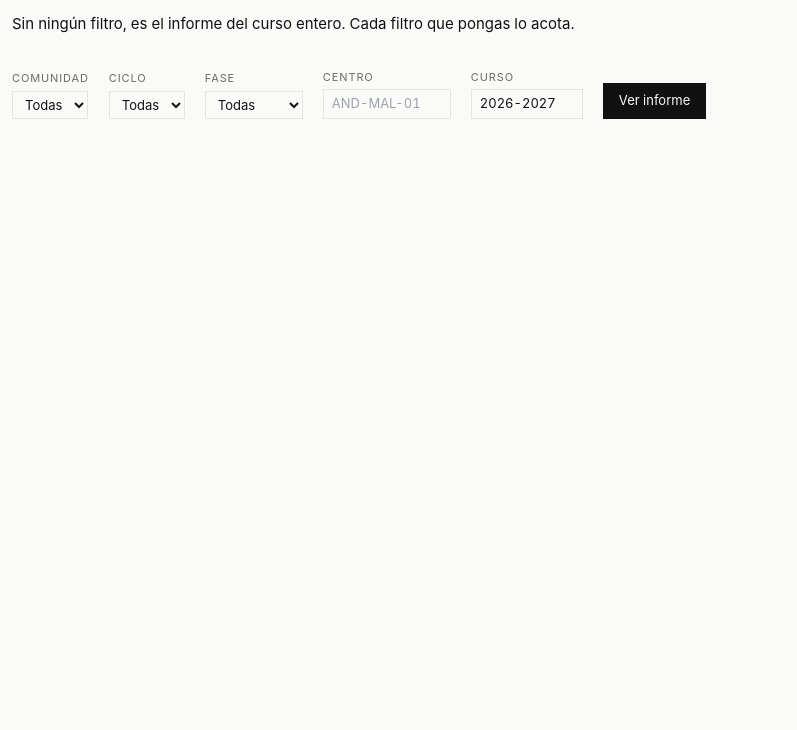
Test: Informes › enseña la cobertura y quién no ha entregado
What coordinates should you click on to do the following:
click the button "Ver informe"
I would click on:
 (654, 101)
Its box is [603, 83, 706, 119].
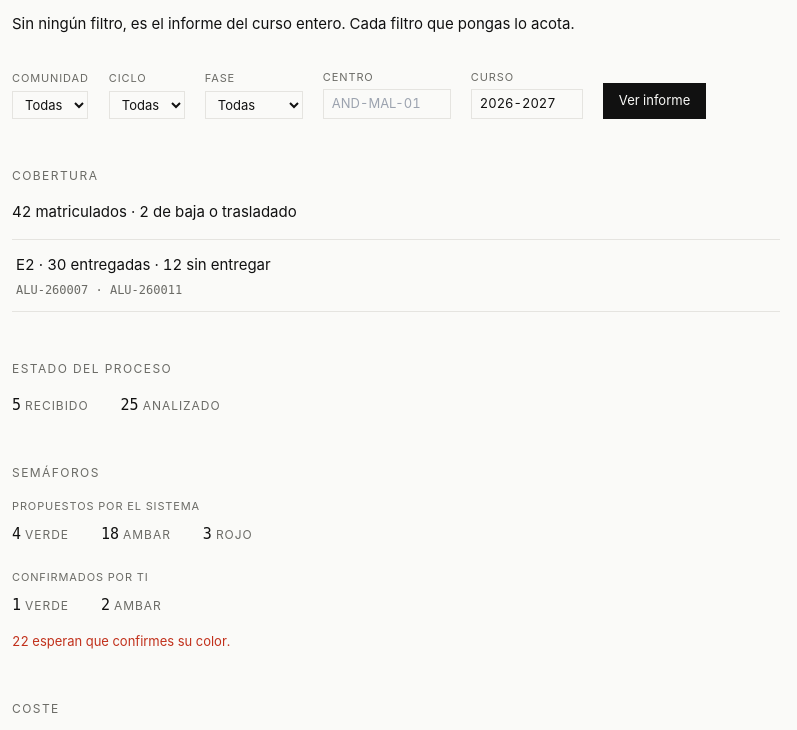
Expected: the text "42 matriculados · 2 de baja o trasladado" is shown, [12, 202, 297, 221]
Expected: the text "12 sin entregar" is shown, [16, 255, 271, 274]
Expected: the text "ALU-260007 · ALU-260011" is shown, [16, 283, 182, 297]
